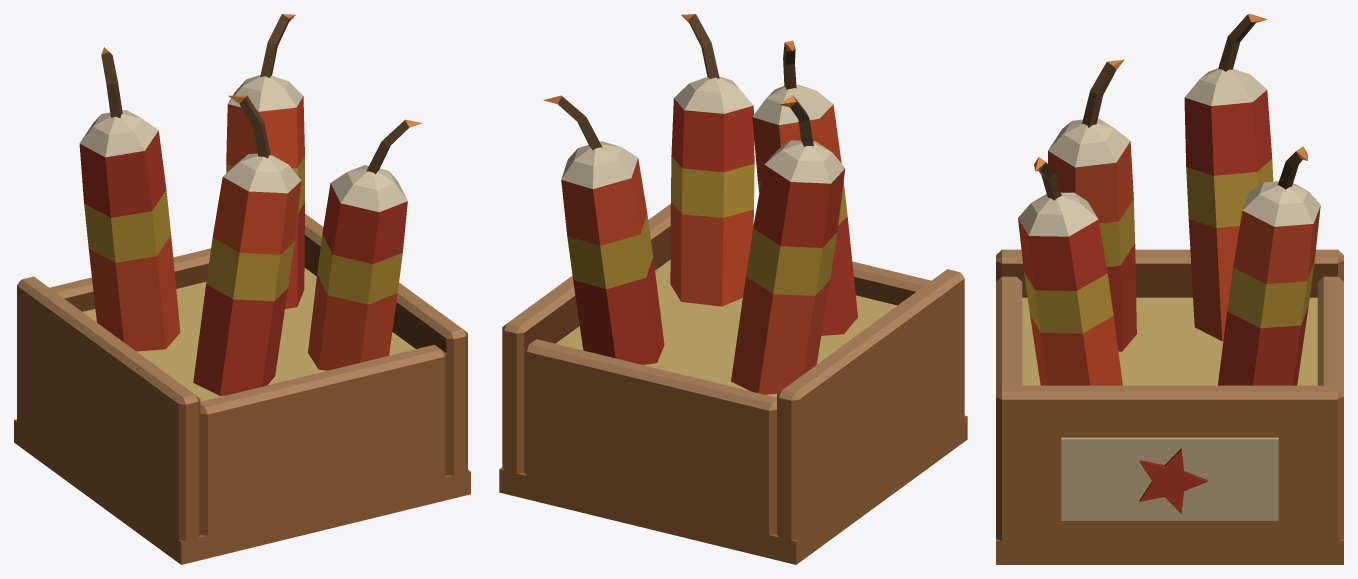
The model's file is firecracker_kit.glb.
The picture shows the model from 3 angles, left to right: view 1: azimuth 30°, elevation 25°; view 2: azimuth 150°, elevation 25°; view 3: azimuth 270°, elevation 25°; orthographic projection. The views are drawn at different scales.
Visible parts, largest first — view 1: firecracker_kit; view 2: firecracker_kit; view 3: firecracker_kit.
Boxes of the visible parts, x1,y1,x2,y2 form: firecracker_kit: [14, 14, 470, 564]; firecracker_kit: [499, 14, 967, 564]; firecracker_kit: [996, 14, 1343, 564].
Size of the model in its own units: 0.246 by 0.3266 by 0.24.
